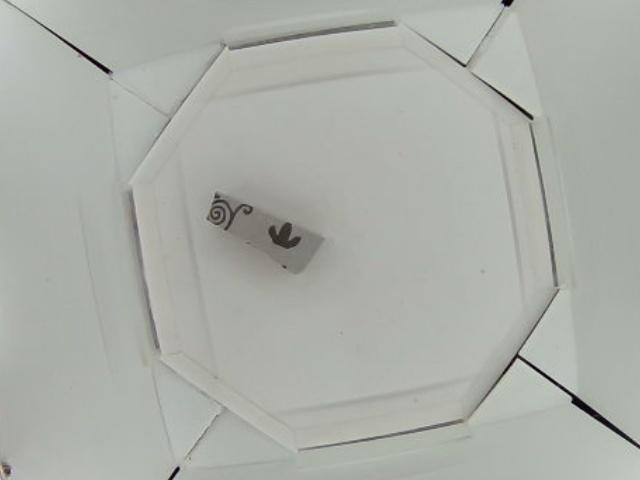China: (207, 190, 326, 273)
